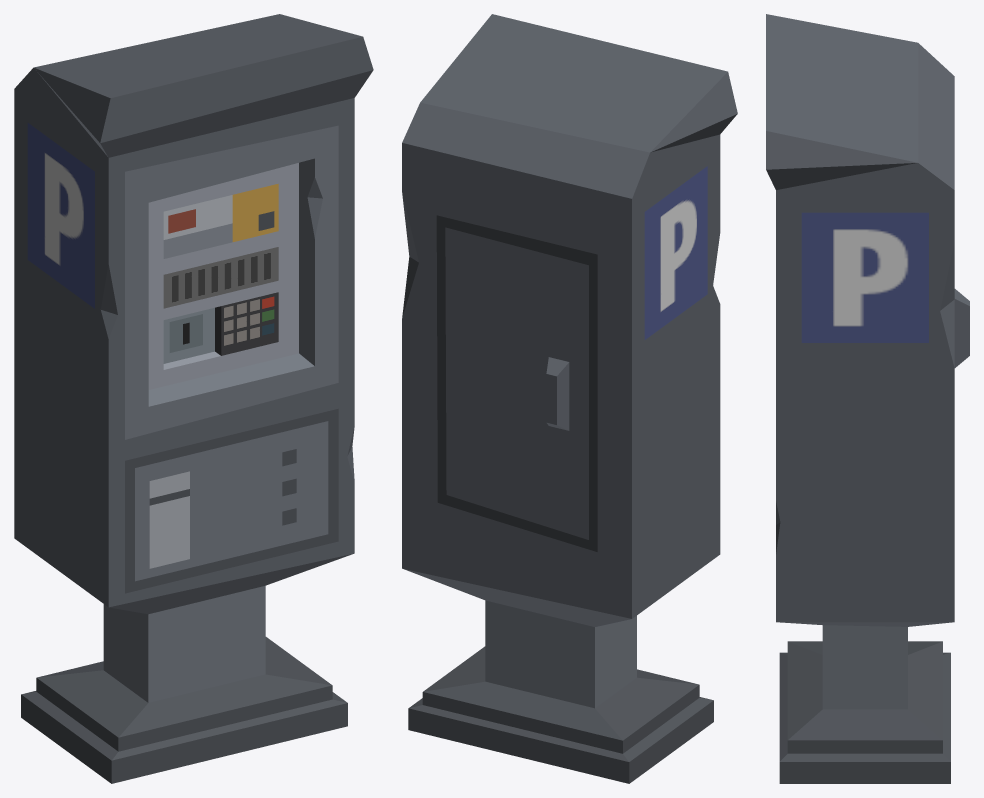
File: SM_Prop_ParkingMeter_02.fbx
3 renders of one model, left to right at view 1: azimuth 30°, elevation 25°; view 2: azimuth 150°, elevation 25°; view 3: azimuth 270°, elevation 25°, orthographic. The views are drawn at different scales.
Parts seen in each view (by area): view 1: SM_Prop_ParkingMeter_02; view 2: SM_Prop_ParkingMeter_02; view 3: SM_Prop_ParkingMeter_02.
Part boxes in pixels (<box>): SM_Prop_ParkingMeter_02: <box>14,14,373,783</box>; SM_Prop_ParkingMeter_02: <box>402,14,737,783</box>; SM_Prop_ParkingMeter_02: <box>766,14,969,783</box>.
Bounding box in the file's own units: 77.19 × 187 × 52.58.
